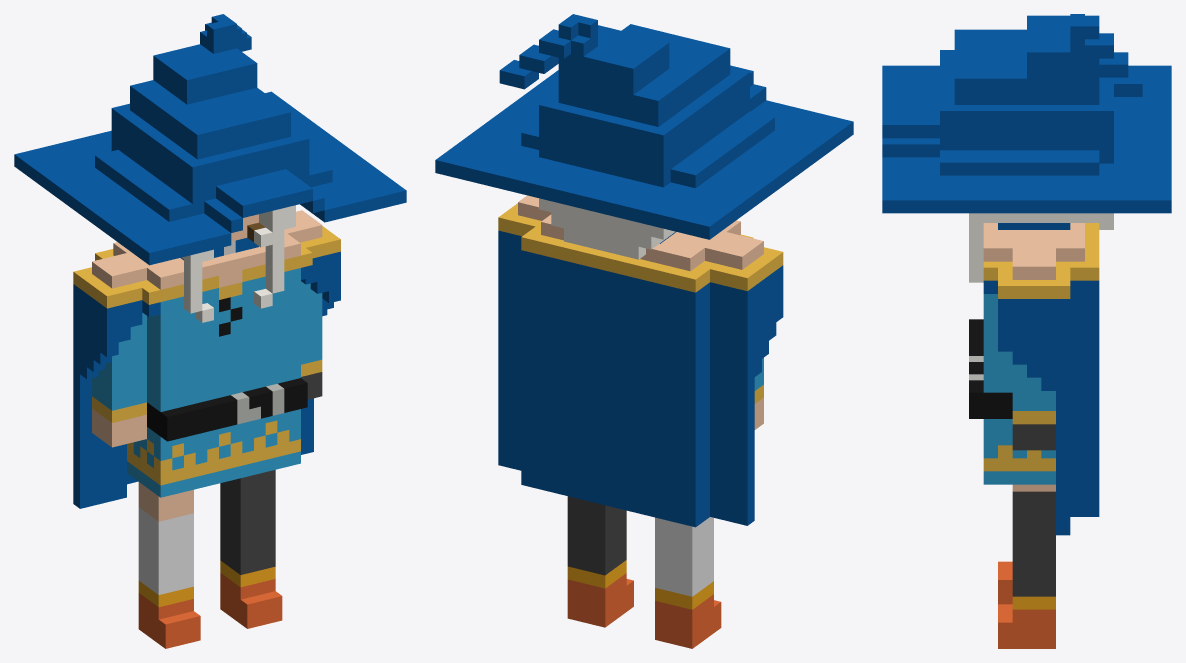
The model's file is NOTmegumin.obj.
3 renders of one model, left to right at view 1: azimuth 30°, elevation 25°; view 2: azimuth 150°, elevation 25°; view 3: azimuth 270°, elevation 25°, orthographic. The views are drawn at different scales.
Bounding box in the file's own units: 2.2 × 4.7 × 2.
Materials: 1 (1 with a texture image).
